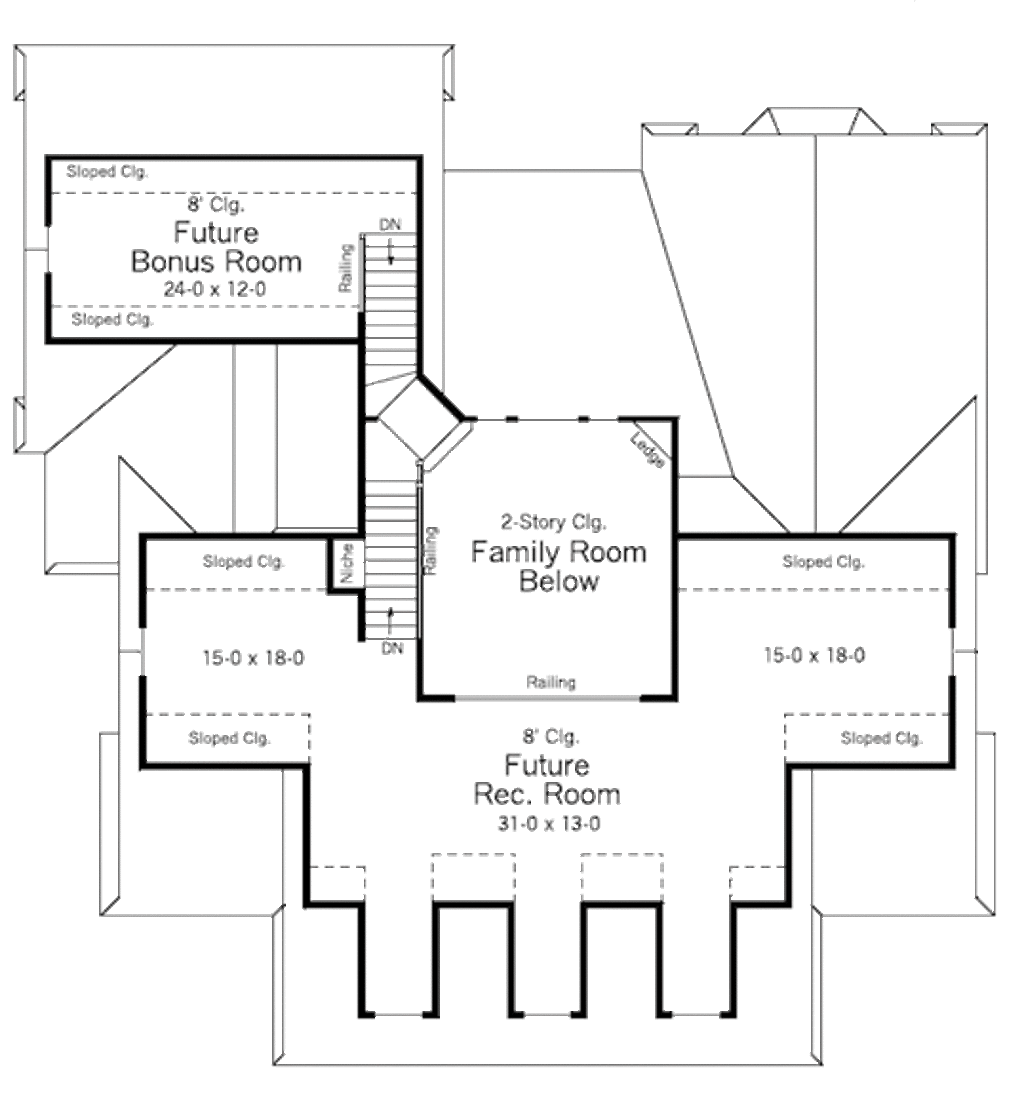stairs: (346, 228, 447, 423), (356, 476, 434, 664)
